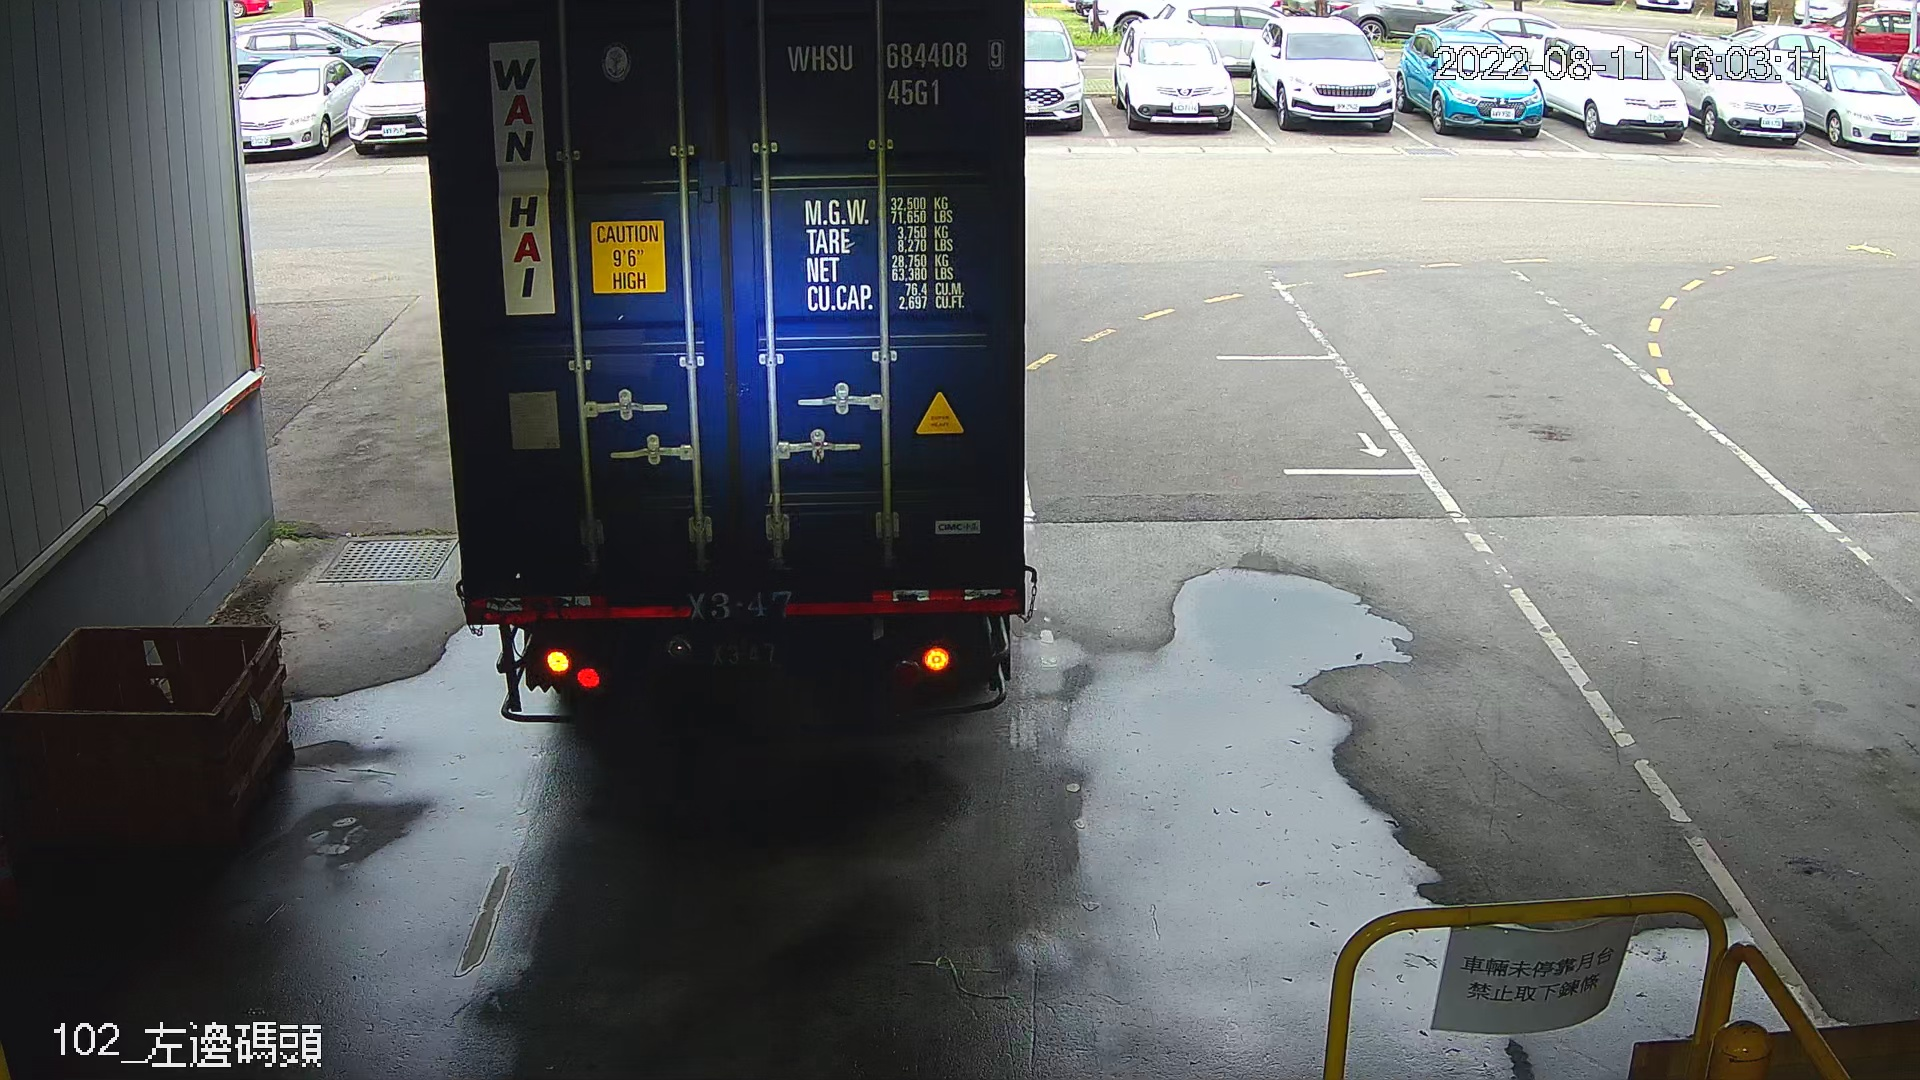container: (778, 32, 1013, 111)
